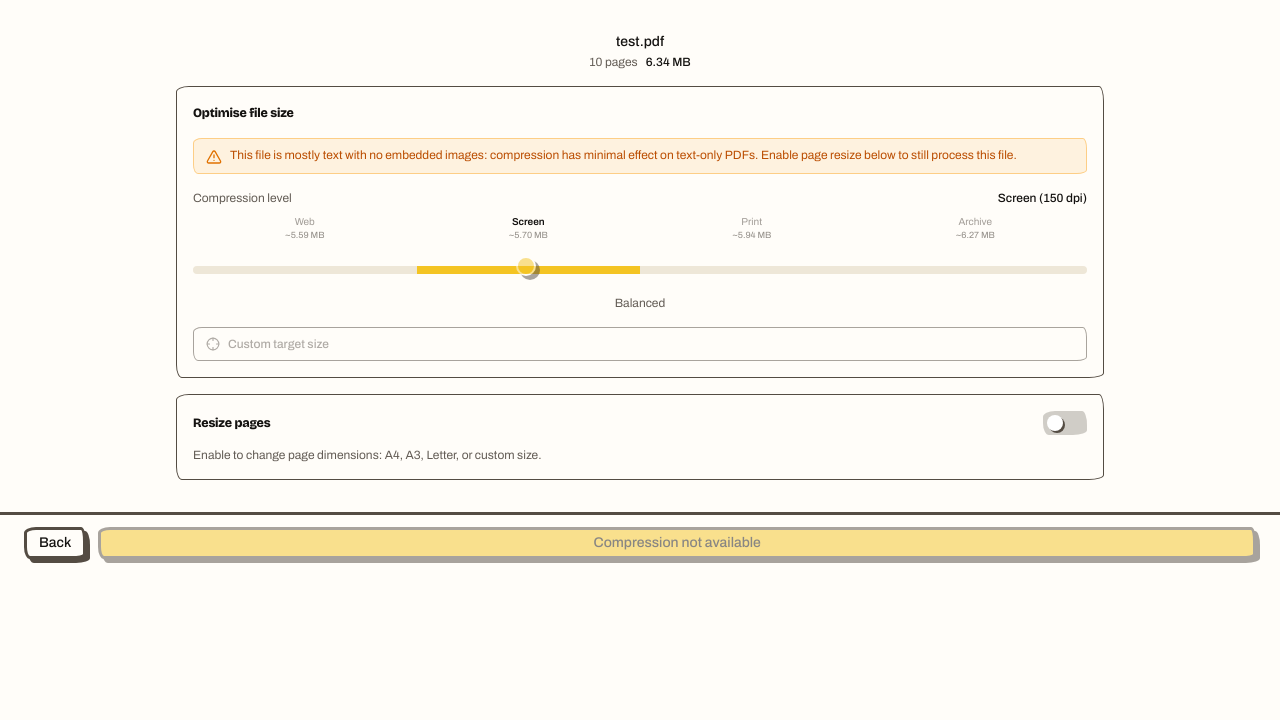
Test: ConfigureStep — non-compressible PDFs disable the compression controls › [CFG-DISABLE-03] re-enables the controls once resize is turned on
The width and height of the screenshot is (1280, 720).
Step 1. Click the switch with test id "resize-toggle" → [1065, 422], box [1043,410,1087,434]
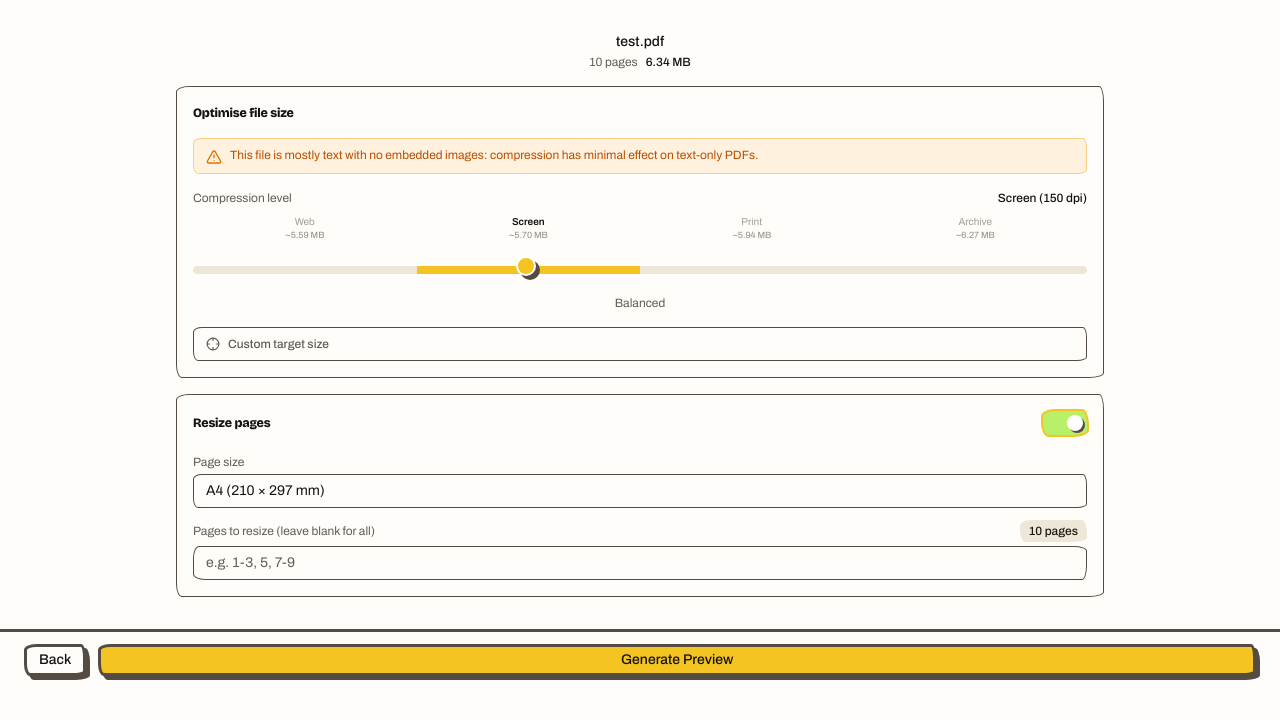
Expected: the slider with test id "compression-slider" is enabled, [193,254,1087,278]
Expected: the button "Custom target size" is enabled, [193,326,1087,360]
